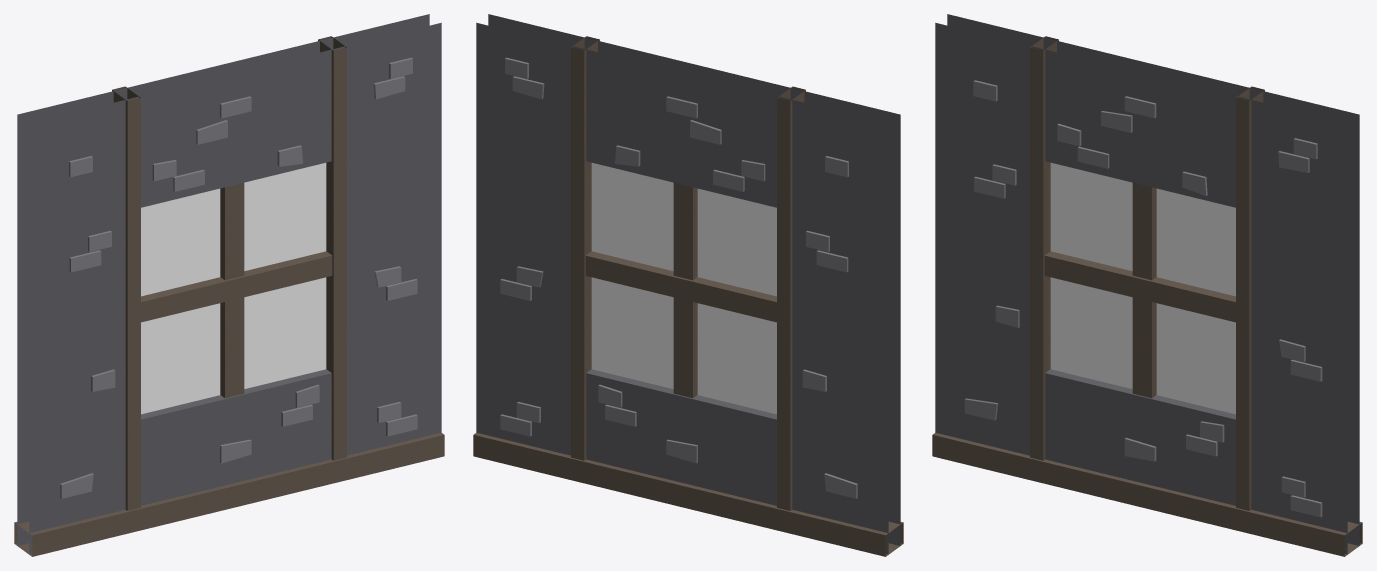
File: Wall_2E_Window.fbx
3 views of the same model, side by side, from view 1: azimuth 30°, elevation 25°; view 2: azimuth 150°, elevation 25°; view 3: azimuth 330°, elevation 25° (orthographic).
Parts seen in each view (by area): view 1: pCube772; view 2: pCube772; view 3: pCube772.
Boxes of the visible parts, x1,y1,x2,y2 form: pCube772: [14, 14, 444, 556]; pCube772: [473, 14, 903, 556]; pCube772: [932, 14, 1362, 556].
Bounding box in the file's own units: 400 × 400 × 30.
